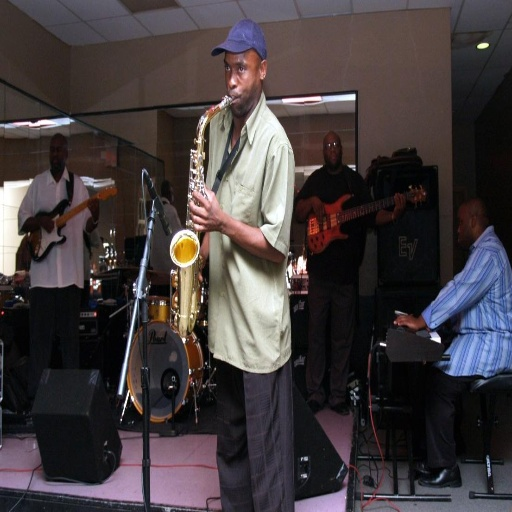hand: (184, 183, 227, 236), (392, 315, 421, 334), (392, 191, 407, 220), (86, 198, 101, 220), (38, 215, 53, 234), (313, 200, 325, 221)
